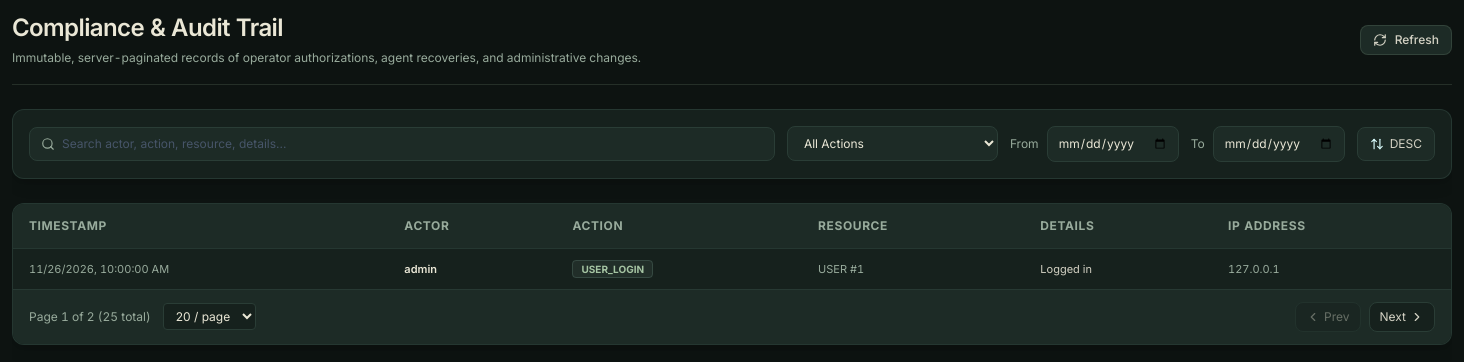
Test: Servers CRUD & Audit Pagination › requests server-side pages and filters on AuditPage
Expected: the text "Page 1 of 2 (25 total)" is shown, [29, 308, 151, 324]
Click the button "Next" at {"x": 1402, "y": 316}, box [1368, 302, 1435, 332]
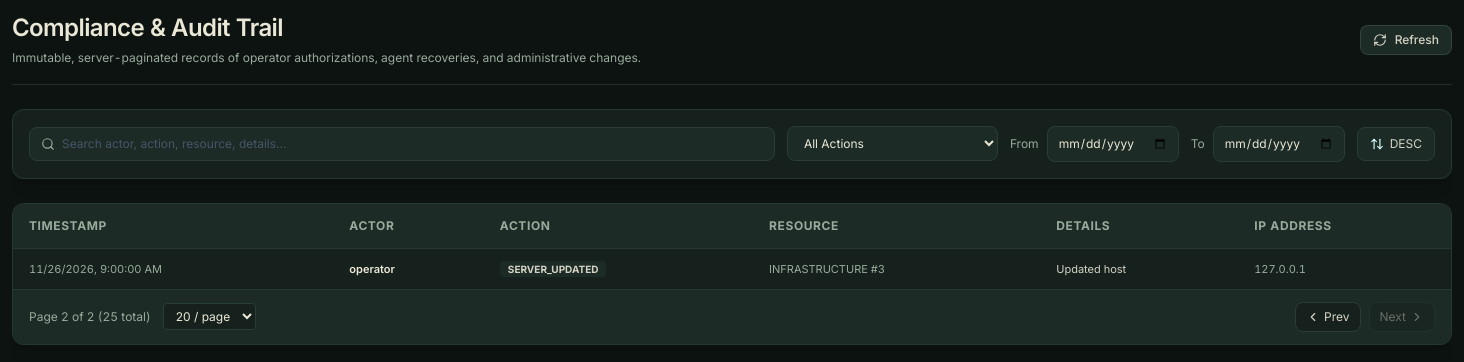
Expected: the text "Page 2 of 2 (25 total)" is shown, [29, 308, 151, 324]
